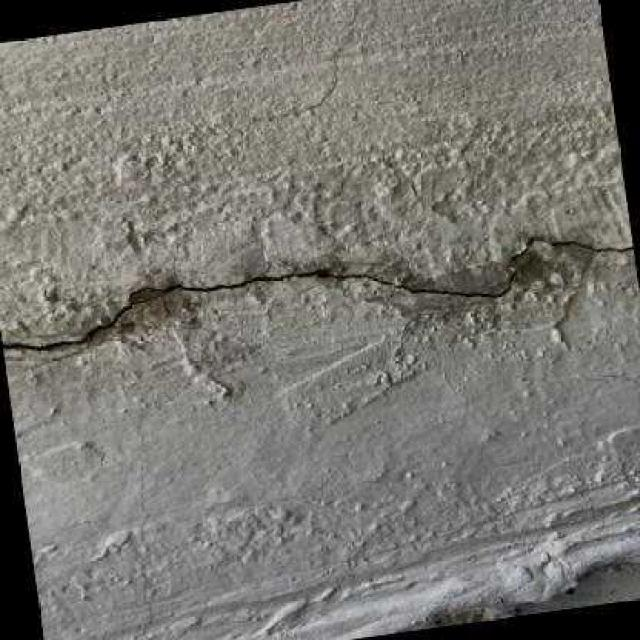D00: (126, 238, 536, 299), (1, 293, 161, 350), (543, 241, 633, 252)
